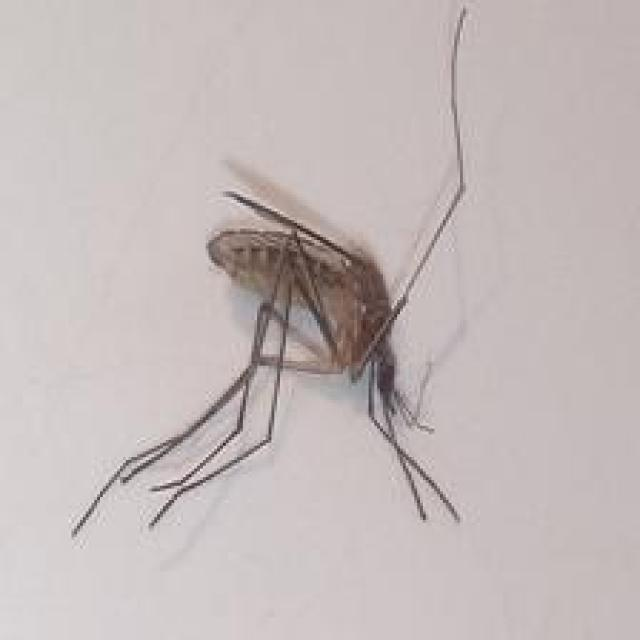Culex: (70, 4, 473, 542)
